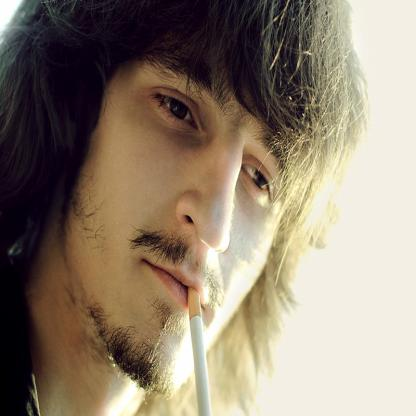smoking: (187, 284, 211, 415)
